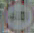Heavy Vehicles: (2, 1, 33, 31)
